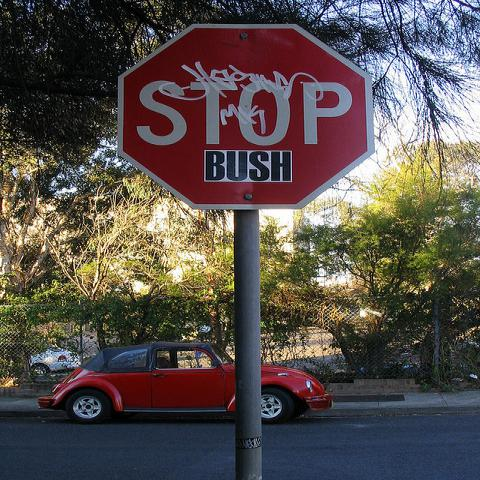car: (44, 342, 336, 422), (28, 344, 81, 375)
